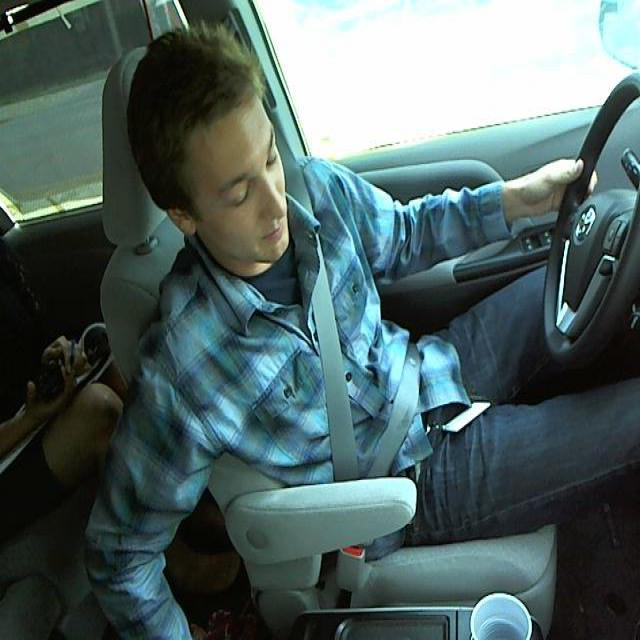seatbelt: (279, 173, 422, 484)
